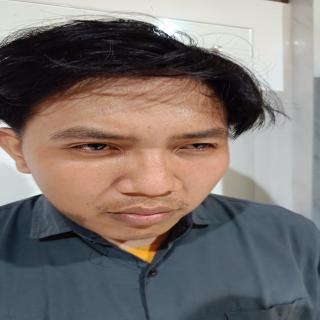Marah: (23, 52, 243, 248)
